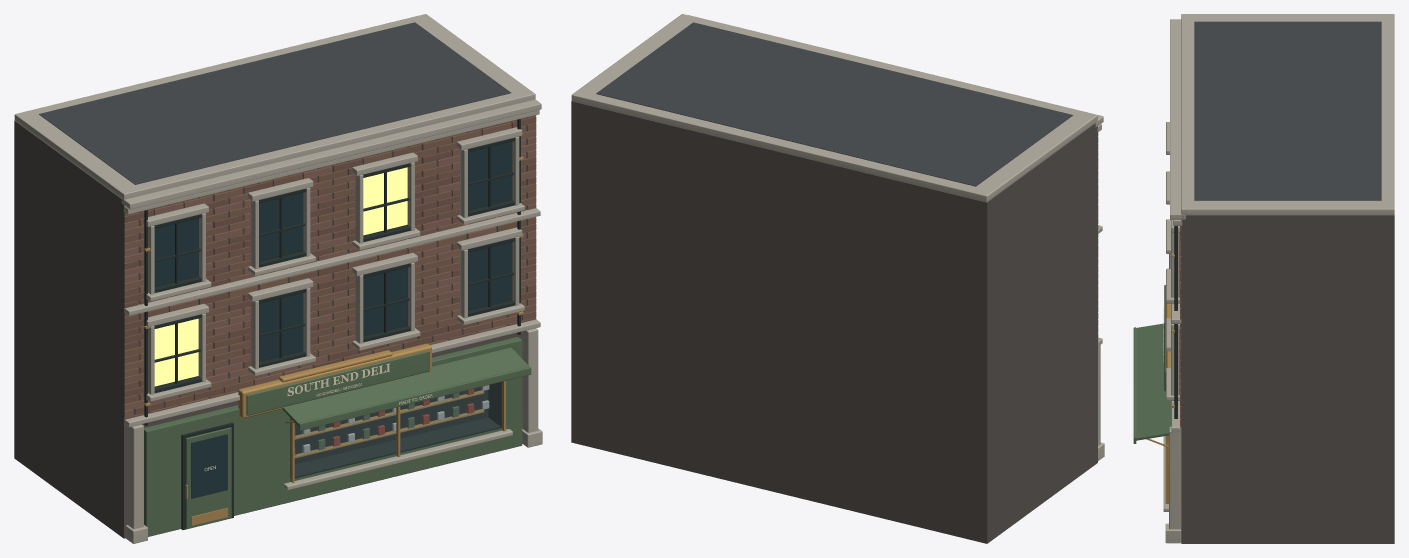
Rendered from district-south-end-deli.glb.
3 renders of one model, left to right at view 1: azimuth 30°, elevation 25°; view 2: azimuth 150°, elevation 25°; view 3: azimuth 270°, elevation 25°, orthographic. The views are drawn at different scales.
Parts seen in each view (by area): view 1: Existing envelope, District Warm limestone, District Roof membrane, District Coffee enamel, District Charcoal painted metal, District Opaque dark glazing, Roof cap, District Shop window clear glazing, District Brick tone 3, District Brick tone 0, District Brick tone 4, District Brick tone 2 (+6 smaller); view 2: Existing envelope, District Roof membrane, Roof cap, District Warm limestone; view 3: Existing envelope, District Roof membrane, Roof cap, District Warm limestone, District Coffee enamel, District Charcoal painted metal, District Aged brass.
Boxes of the visible parts, bbox=[...] form: Existing envelope: bbox=[14, 116, 535, 538]; District Warm limestone: bbox=[121, 99, 542, 543]; District Roof membrane: bbox=[39, 22, 510, 184]; District Coffee enamel: bbox=[144, 337, 531, 536]; District Charcoal painted metal: bbox=[144, 119, 520, 529]; District Opaque dark glazing: bbox=[154, 142, 511, 498]; Roof cap: bbox=[14, 14, 535, 199]; District Shop window clear glazing: bbox=[295, 382, 501, 478]; District Brick tone 3: bbox=[124, 122, 536, 400]; District Brick tone 0: bbox=[124, 125, 536, 419]; District Brick tone 4: bbox=[124, 115, 536, 417]; District Brick tone 2: bbox=[124, 123, 536, 413]; Existing envelope: bbox=[571, 101, 1097, 543]; District Roof membrane: bbox=[596, 22, 1073, 186]; Roof cap: bbox=[571, 14, 1097, 202]; District Warm limestone: bbox=[688, 15, 1104, 460]; Existing envelope: bbox=[1181, 215, 1394, 543]; District Roof membrane: bbox=[1194, 21, 1381, 200]; Roof cap: bbox=[1181, 14, 1394, 214]; District Warm limestone: bbox=[1163, 19, 1185, 543]; District Coffee enamel: bbox=[1133, 323, 1171, 443]; District Charcoal painted metal: bbox=[1174, 226, 1179, 418]; District Aged brass: bbox=[1146, 253, 1174, 503].
Bounding box in the file's own units: 11.7 × 9.36 × 6.62.
